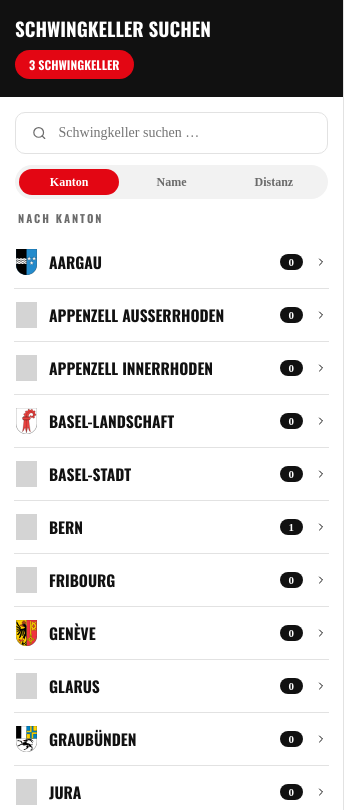
it: Sidebar › filters venues as the user types in the search box
The width and height of the screenshot is (361, 810).
// Searching expands all matching groups (prototype line ~479).
Type "willi" into the field with placeholder "Schwingkeller suchen …" at [184, 133], box [57, 124, 311, 142]
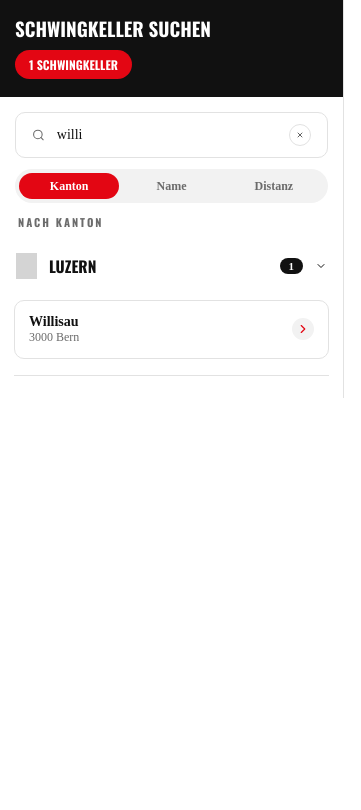
Expected: the text "Willisau" is shown, [29, 314, 78, 329]
